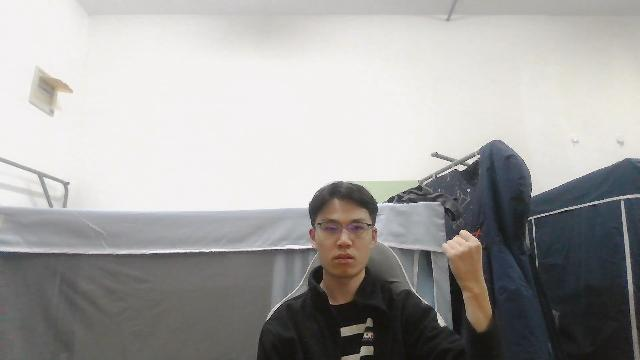ten: (439, 227, 487, 296)
